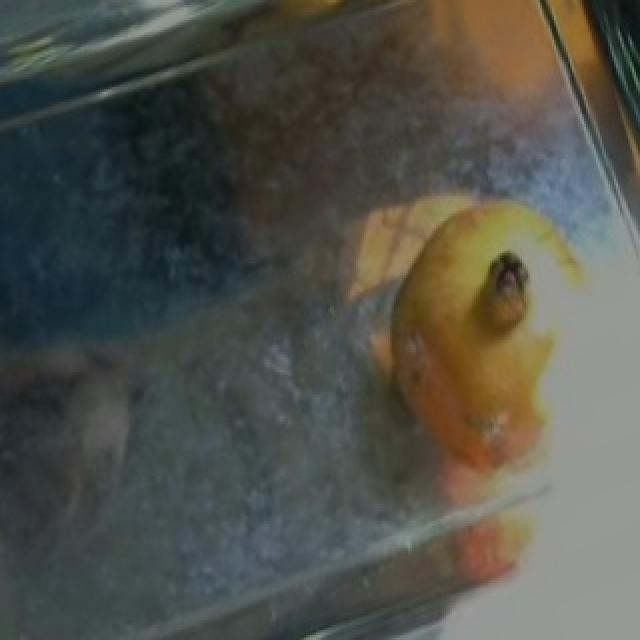fruit: (368, 168, 612, 380)
